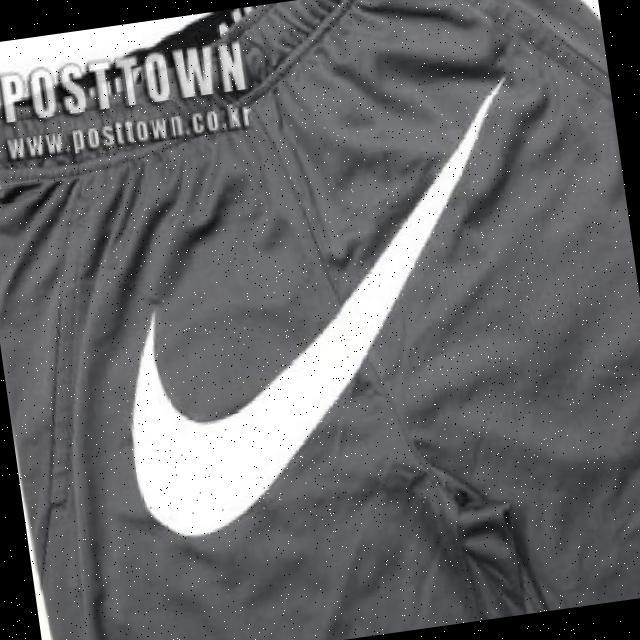Nike: (82, 70, 561, 543)
